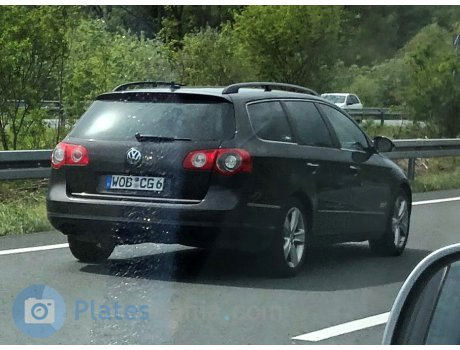License Plates: (112, 175, 163, 190)
